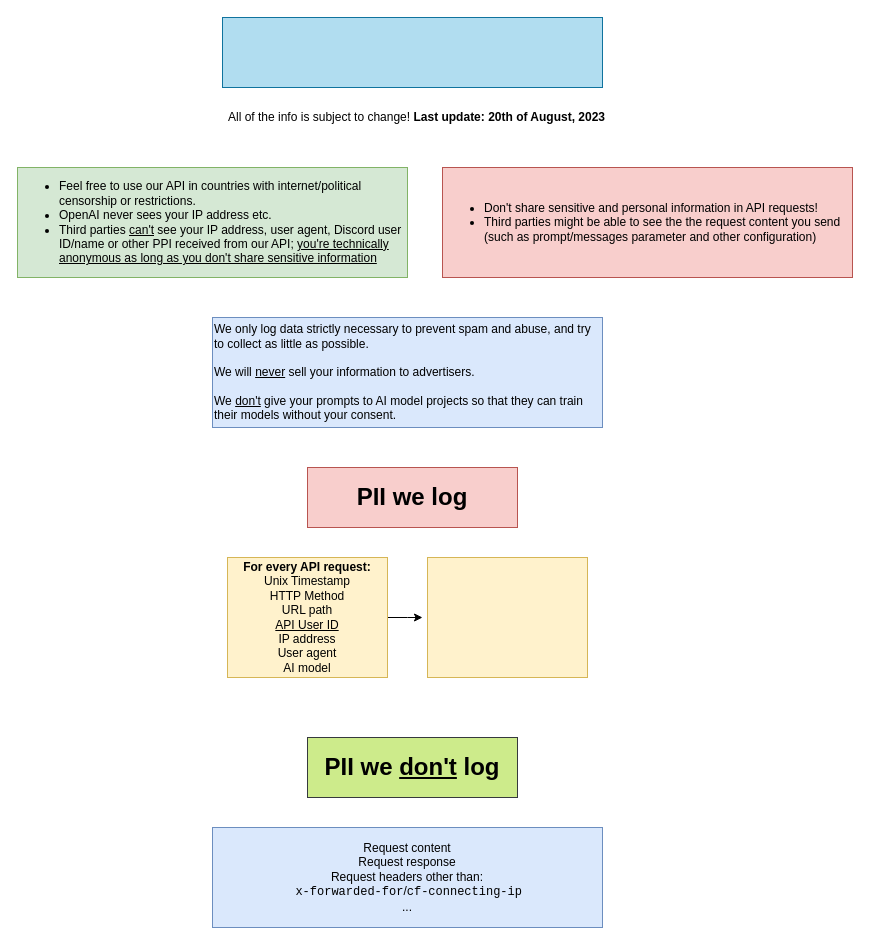
The diagram is 870 pixels wide and 945 high, and some of its shapes have lost their labels. The shapes that lost their labels are listed below. From the top down, each one's centre as x and y in pixels, then its label:
the point at 412,52: NovaAI Privacy Details
the point at 507,617: Account API key Discord user ID Discord
